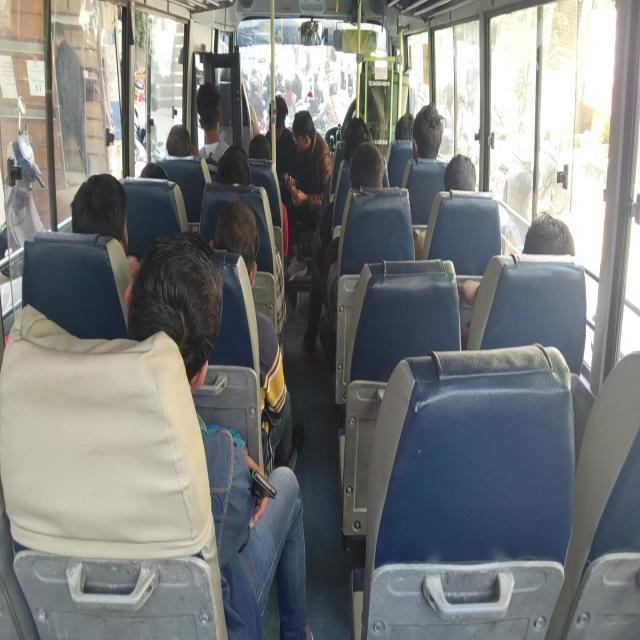person: (134, 247, 219, 358), (63, 170, 137, 259), (516, 201, 574, 281), (214, 203, 264, 264), (350, 145, 394, 196), (192, 73, 226, 137), (212, 152, 258, 188), (246, 132, 276, 177), (394, 105, 424, 149), (140, 165, 169, 208), (166, 116, 194, 160), (445, 154, 476, 192), (416, 105, 442, 150), (339, 120, 368, 160), (290, 111, 316, 155), (268, 99, 292, 140)
